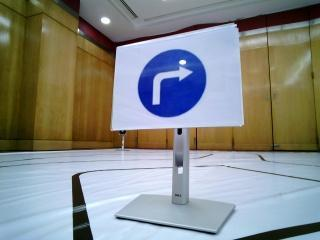right: (116, 46, 230, 121)
